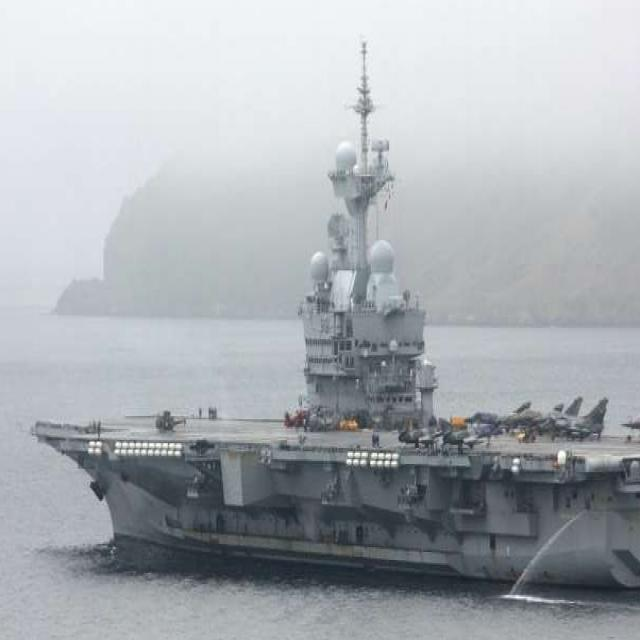Portanaves: (27, 23, 640, 596)
